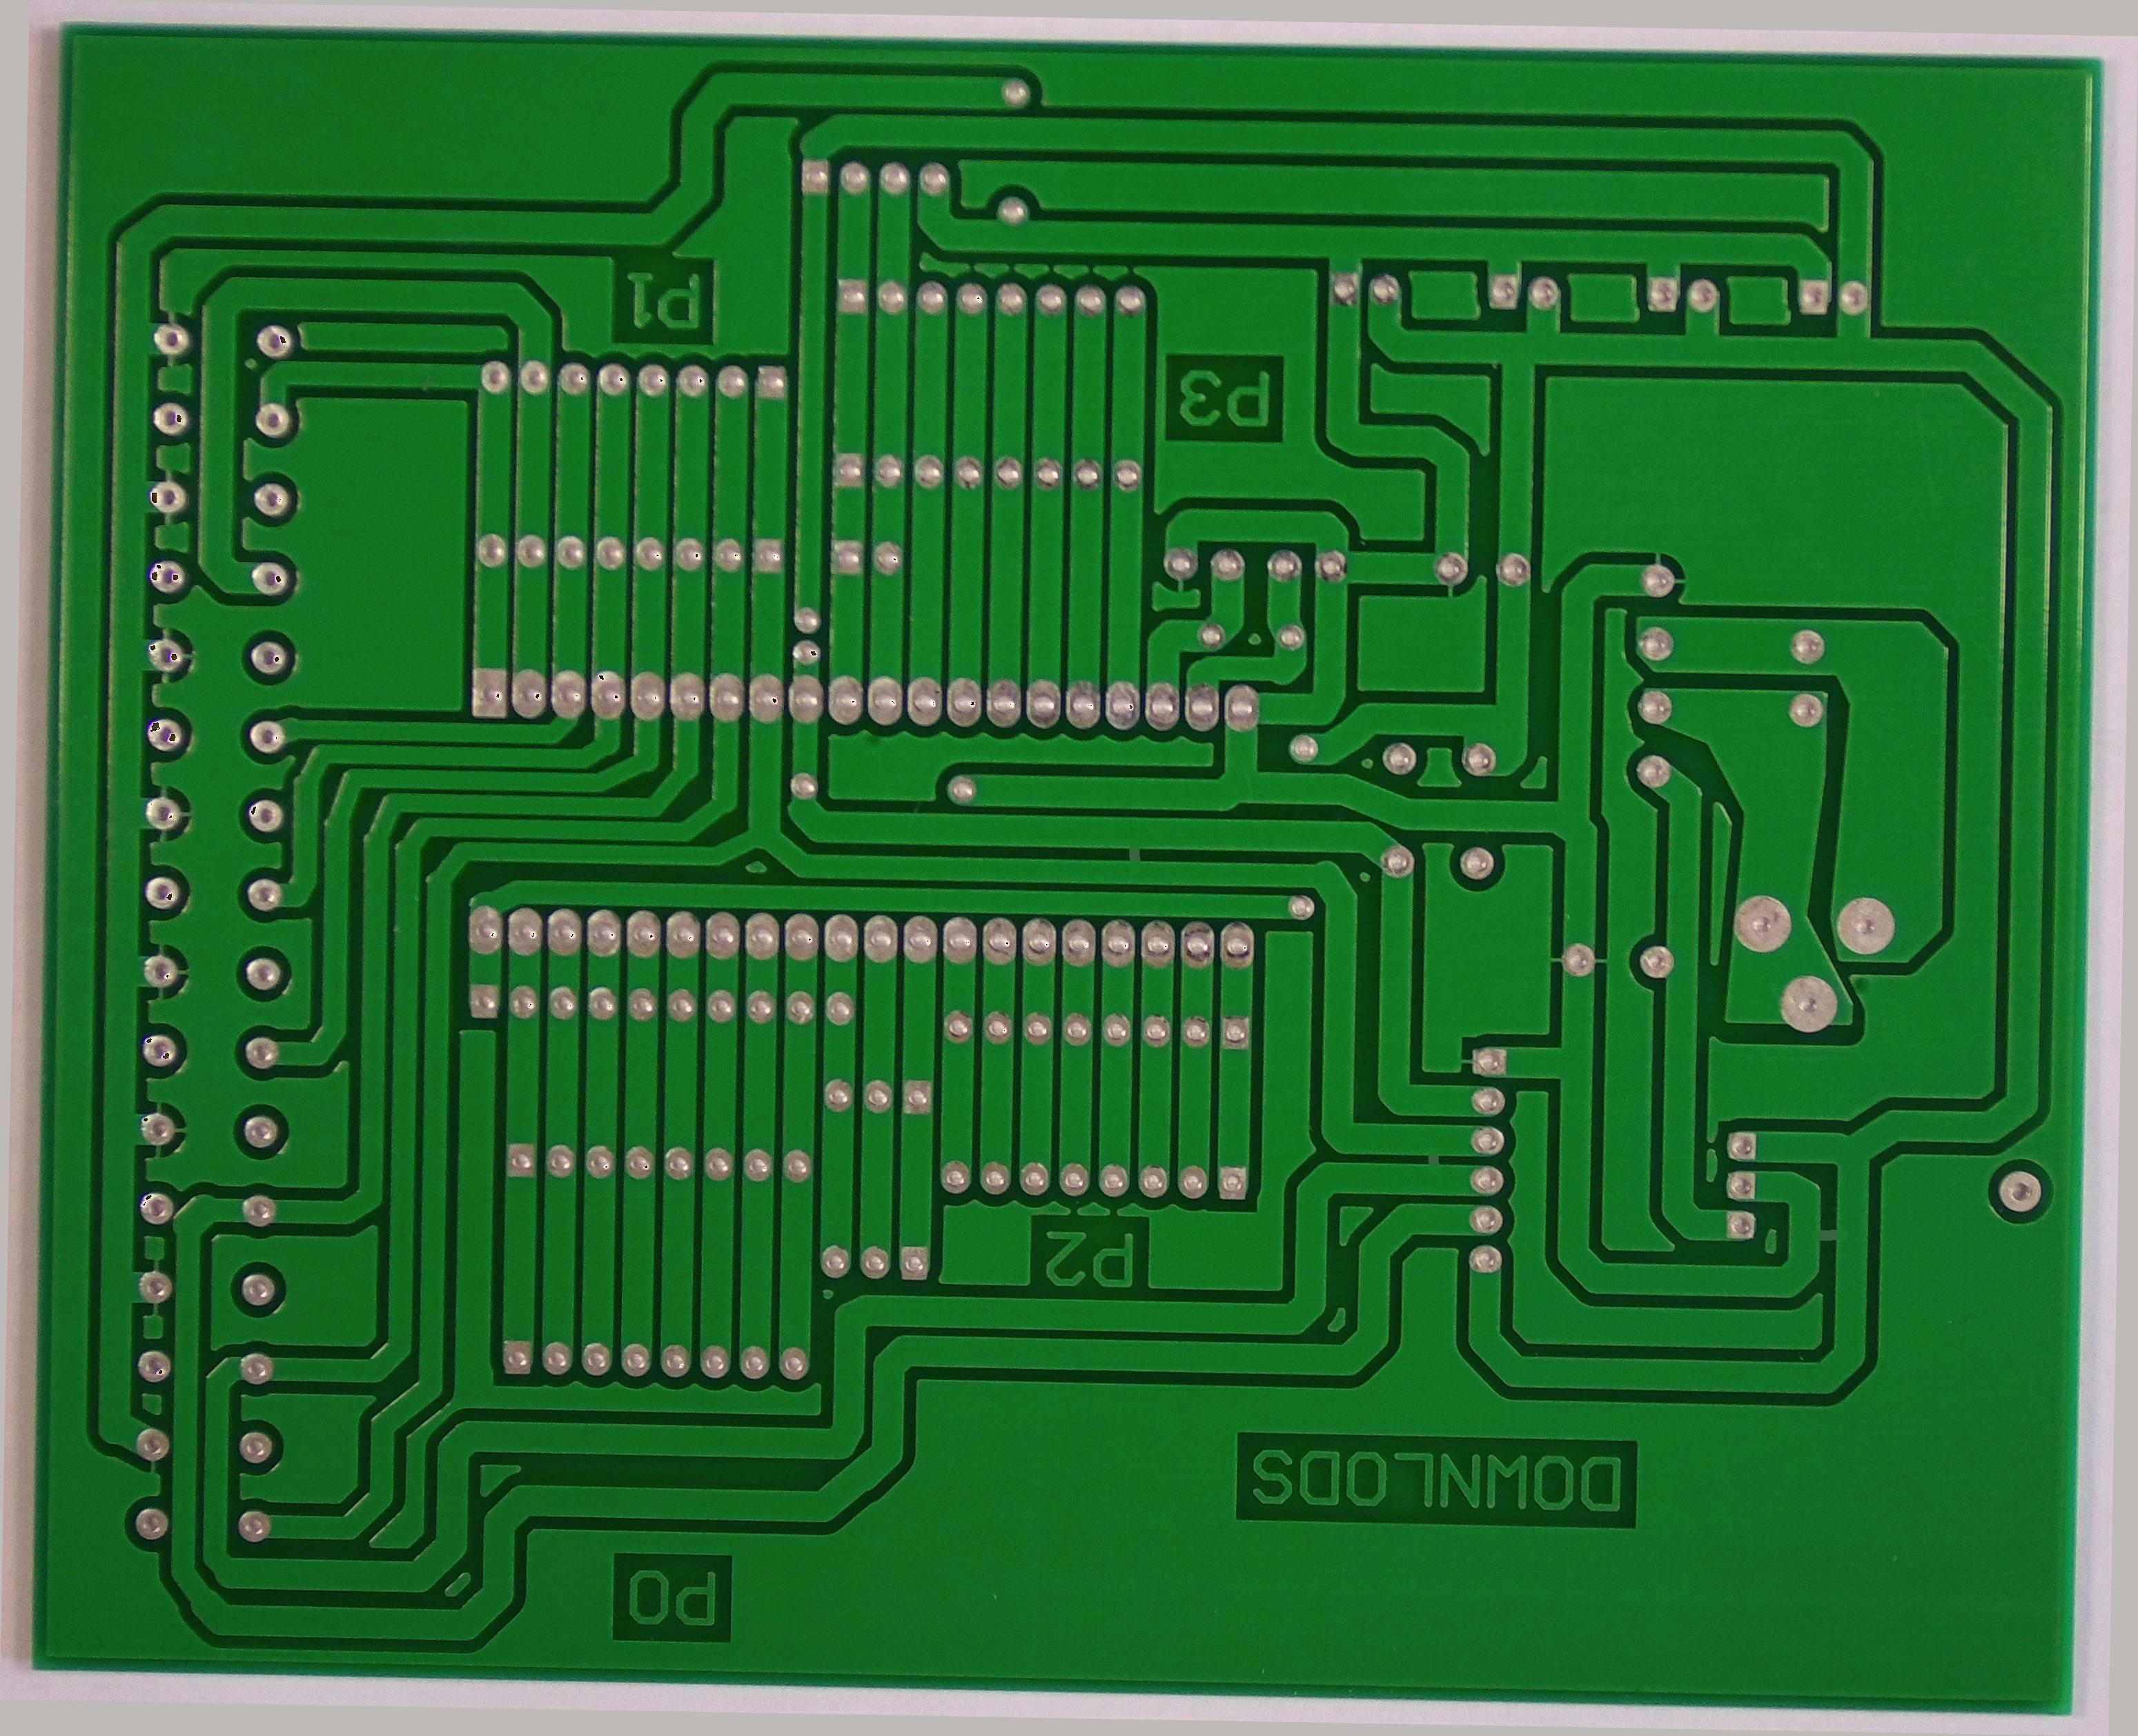short: (1782, 1192, 1862, 1275), (1104, 818, 1173, 889), (1403, 1125, 1467, 1194)
